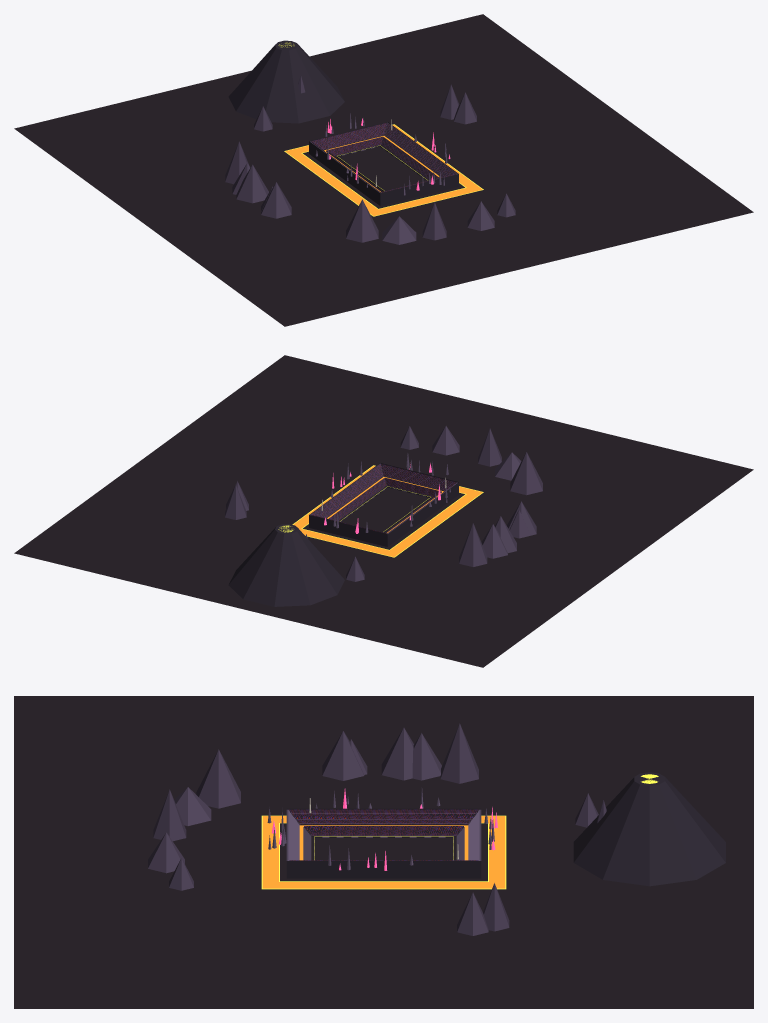
The model's file is crater.glb.
3 renders of one model, top to bottom at view 1: azimuth 30°, elevation 25°; view 2: azimuth 150°, elevation 25°; view 3: azimuth 270°, elevation 25°, orthographic. The views are drawn at different scales.
Visible parts, largest first — view 1: crater; view 2: crater; view 3: crater.
Part boxes in pixels (<box>): crater: <box>14,14,753,326</box>; crater: <box>14,355,753,667</box>; crater: <box>14,696,753,1008</box>.
Bounding box in the file's own units: 640 × 71 × 640.
10 materials, 1 textured.
